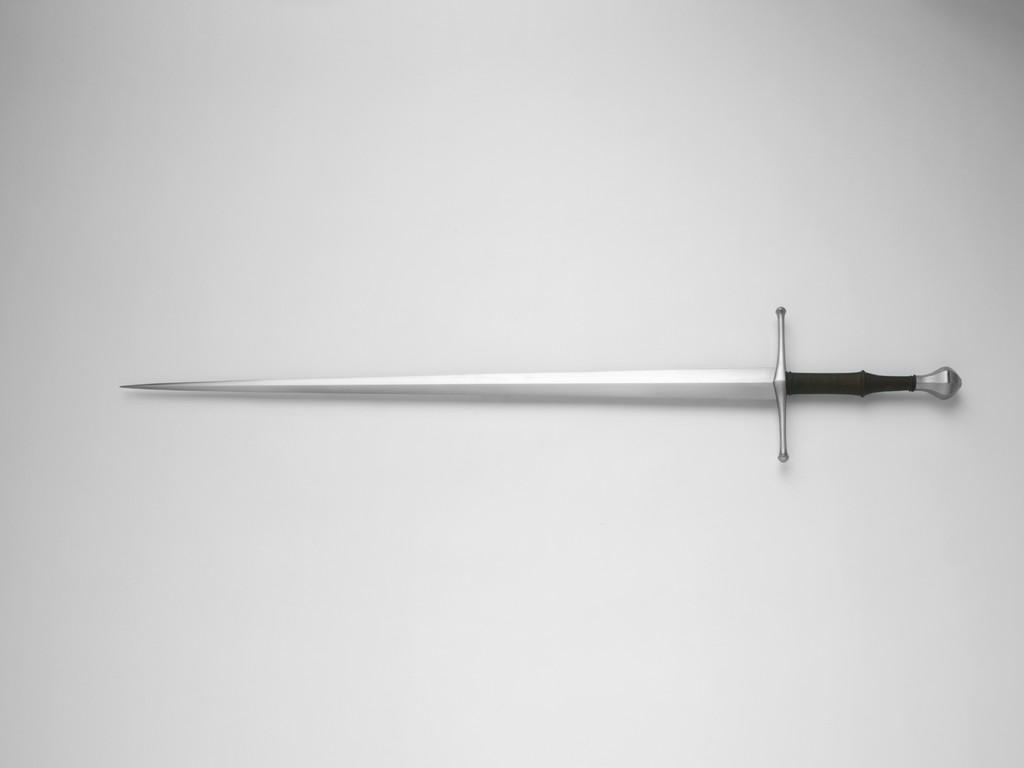Sword: (118, 306, 962, 463)
